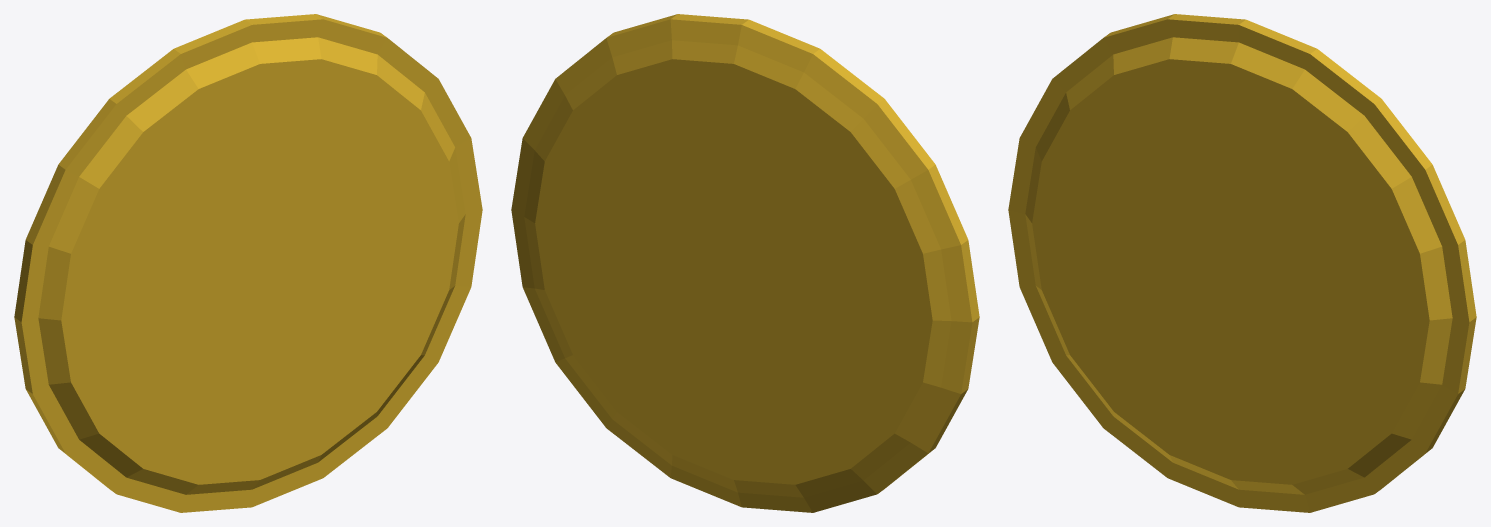
Rendered from coin.gltf.
3 renders of one model, left to right at view 1: azimuth 30°, elevation 25°; view 2: azimuth 150°, elevation 25°; view 3: azimuth 330°, elevation 25°, orthographic.
Bounding box in the file's own units: 0.8369 × 0.8369 × 0.0731.
